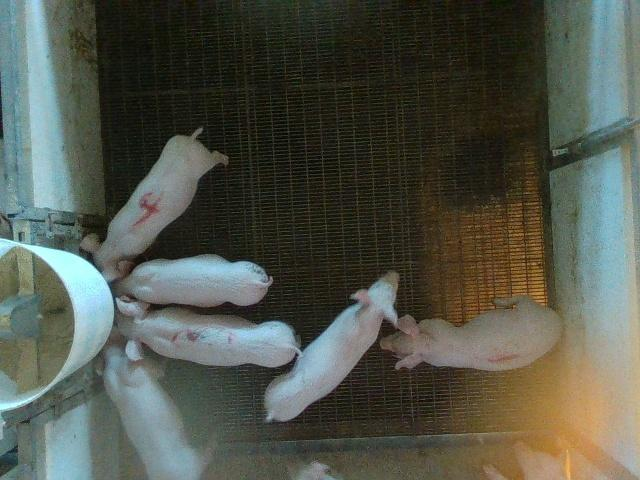pig-1: (380, 295, 562, 371)
pig-3: (116, 298, 300, 367)
pig-4: (80, 129, 228, 282)
